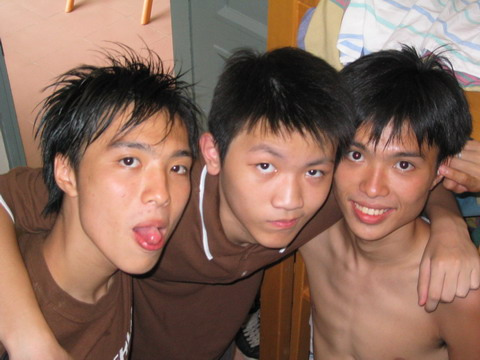without_mask: (55, 101, 193, 277), (203, 107, 337, 248), (334, 111, 452, 237)
